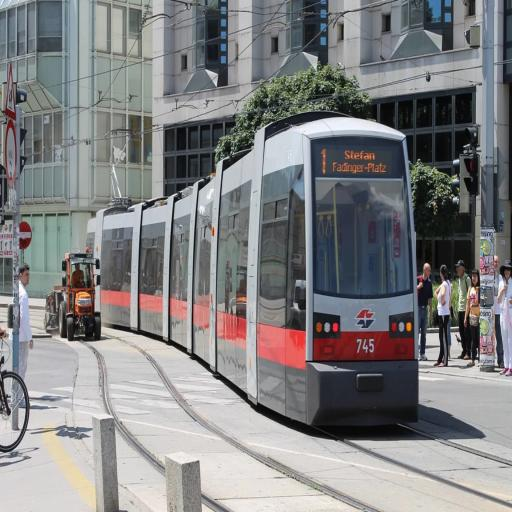ULF: (87, 117, 420, 436)
